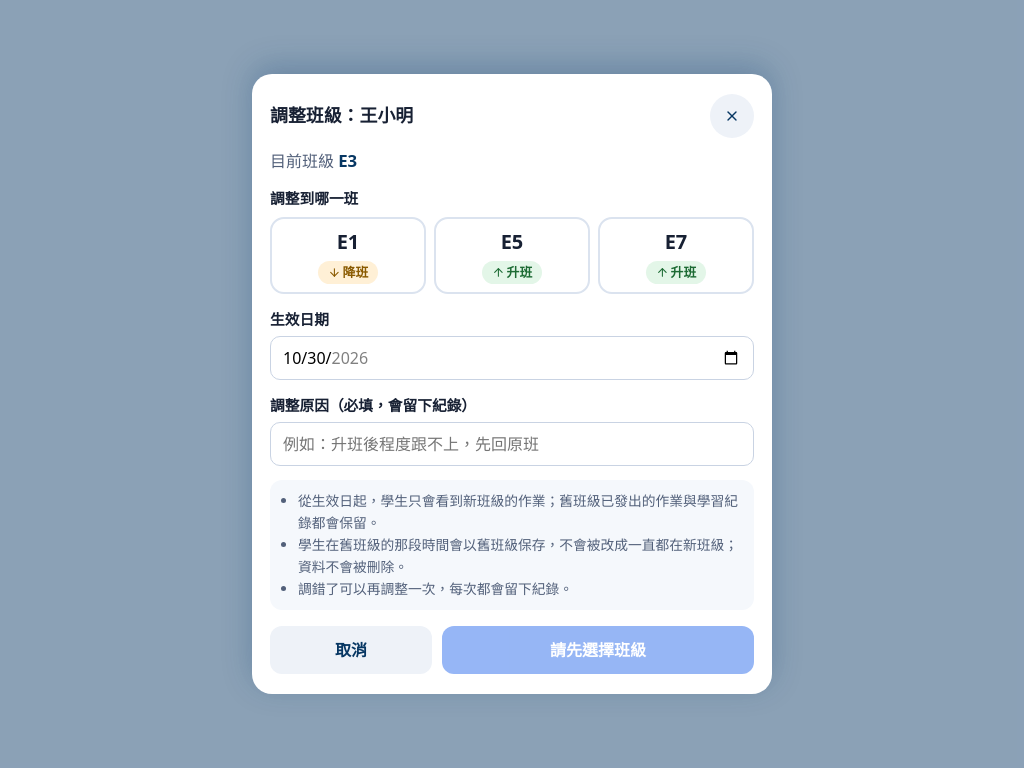
ClassChangeDialog › blocks future dates and dates before the student joined the class
Click the radio button labelled "E1 降班": click(348, 256) [270, 217, 426, 294]
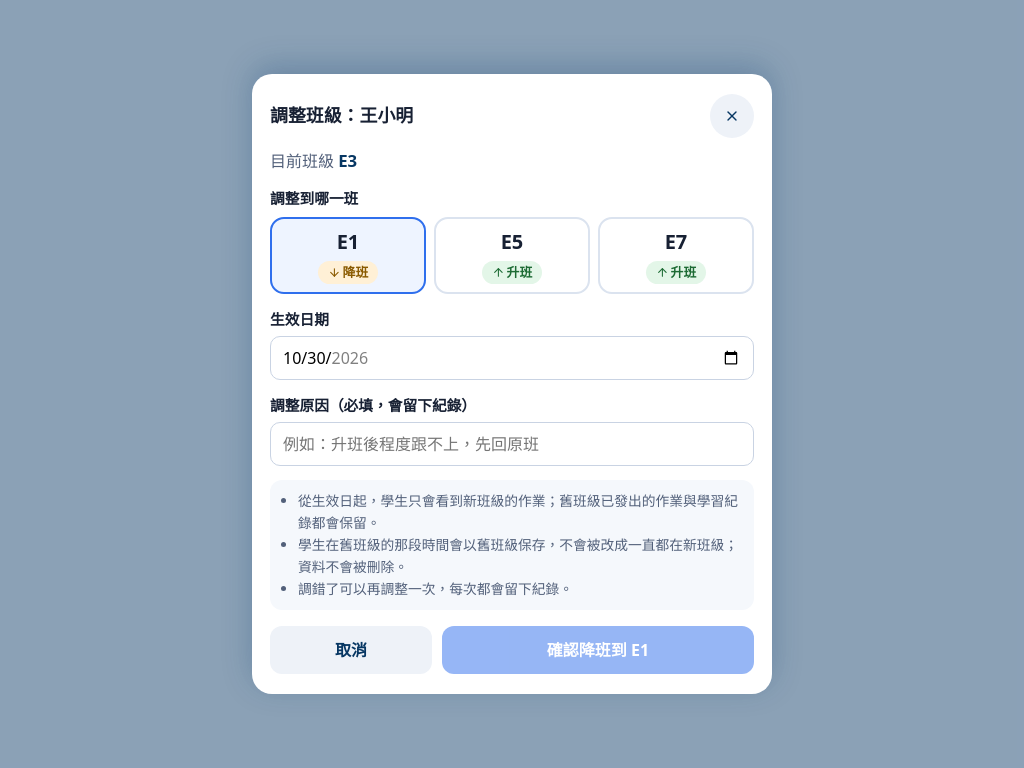
In the field with placeholder "例如：升班後程度跟不上，先回原班": (512, 444) [270, 422, 754, 466], type "回原班"
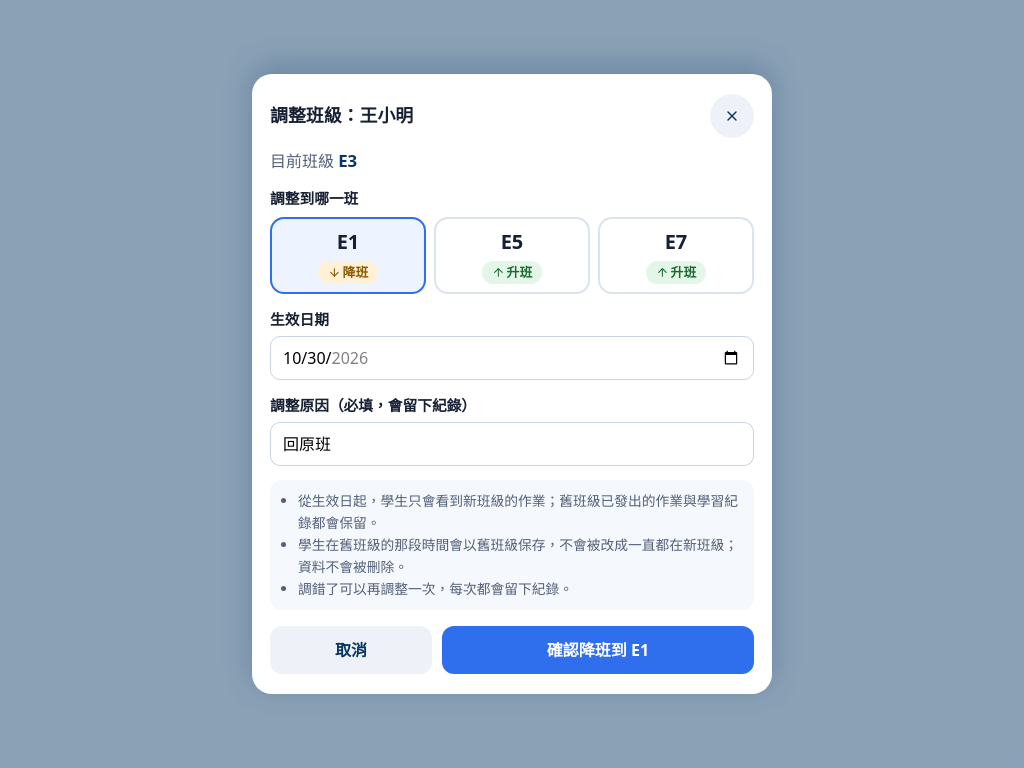
In the date field labelled "生效日期": (512, 358) [270, 336, 754, 380], type "2999-01-01"
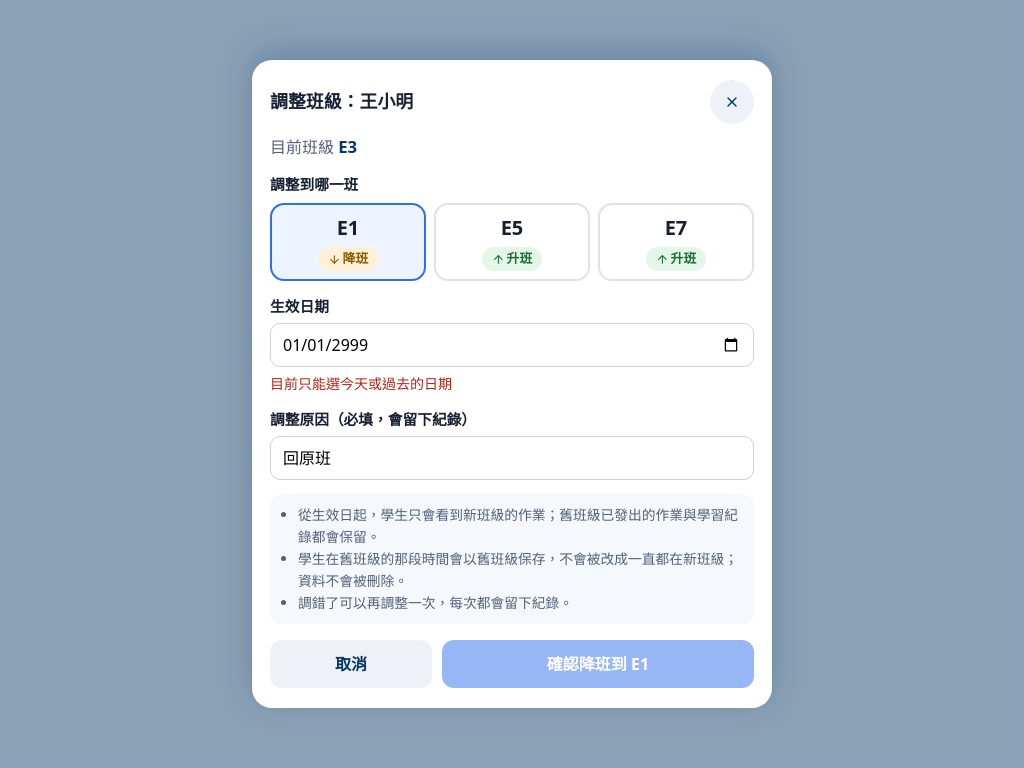
Now the message shows "只能選今天或過去", box [270, 374, 452, 393]
Now the button "確認降班到 E1" is disabled, box [442, 640, 754, 688]
In the date field labelled "生效日期": (512, 345) [270, 323, 754, 367], type "2025-12-31"
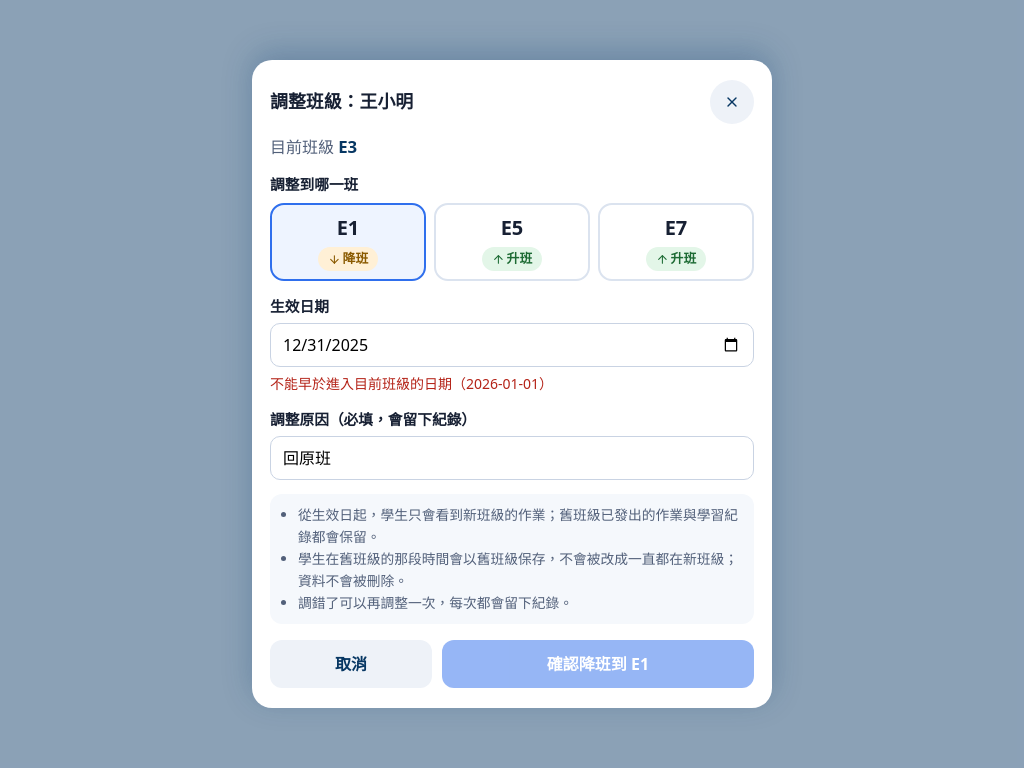
Now the message reads "不能早於進入目前班級的日期（2026-01-01）", box [270, 374, 553, 393]
